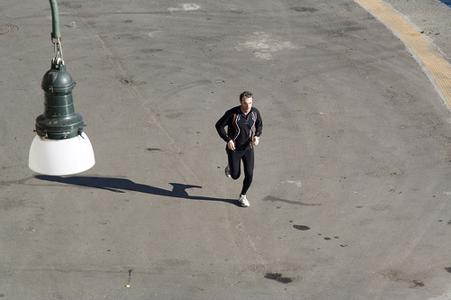person: (213, 92, 262, 209)
